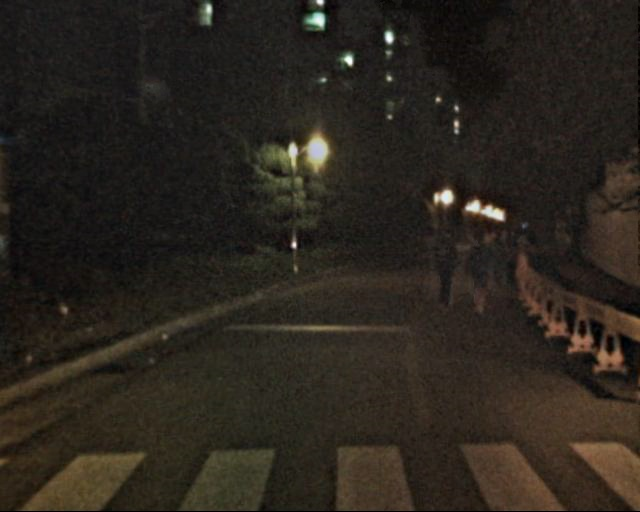person: (426, 228, 462, 317), (460, 233, 495, 319), (501, 231, 525, 289), (486, 235, 509, 290)
